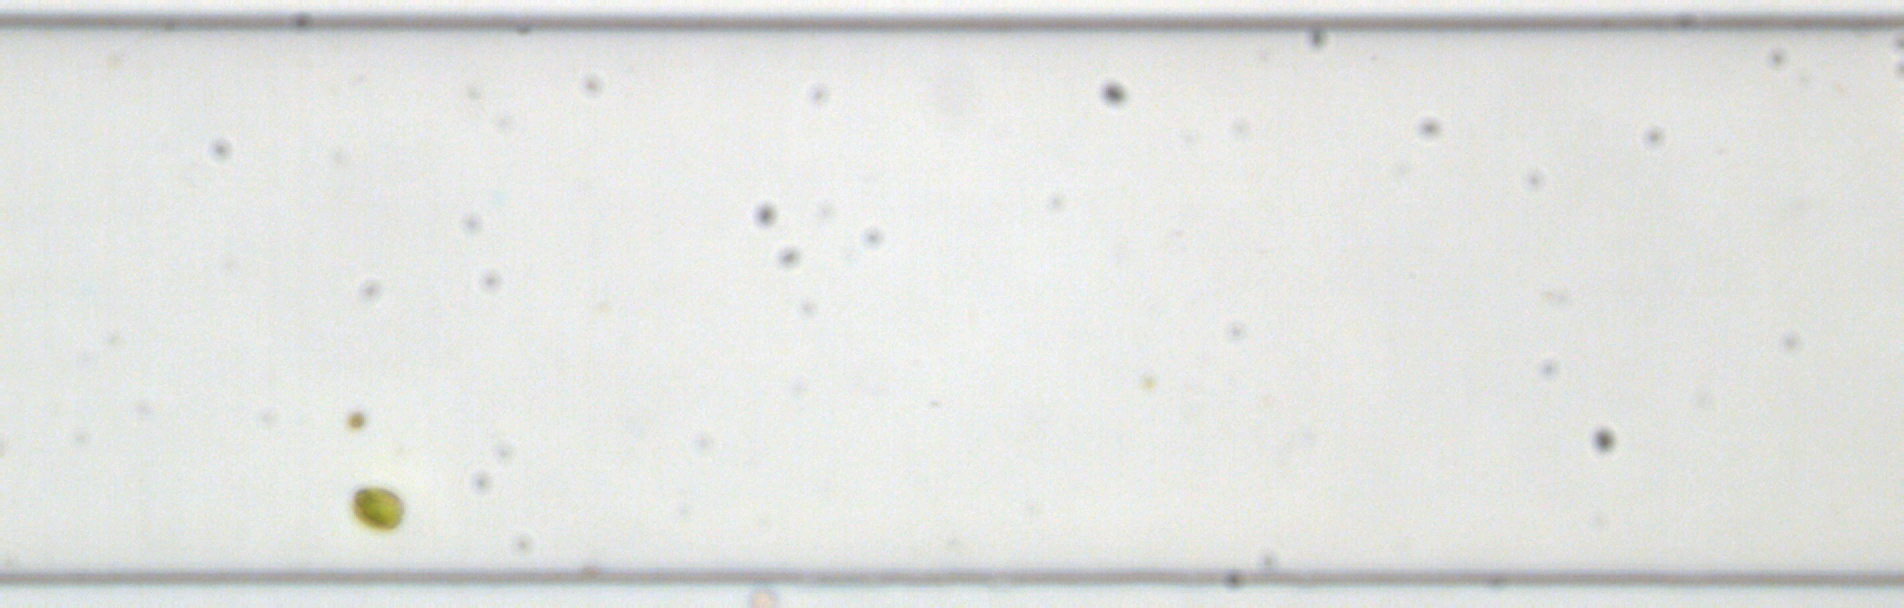Chlorella: (346, 409, 367, 430), (1138, 373, 1156, 391)
Platymonas: (350, 483, 406, 532)
